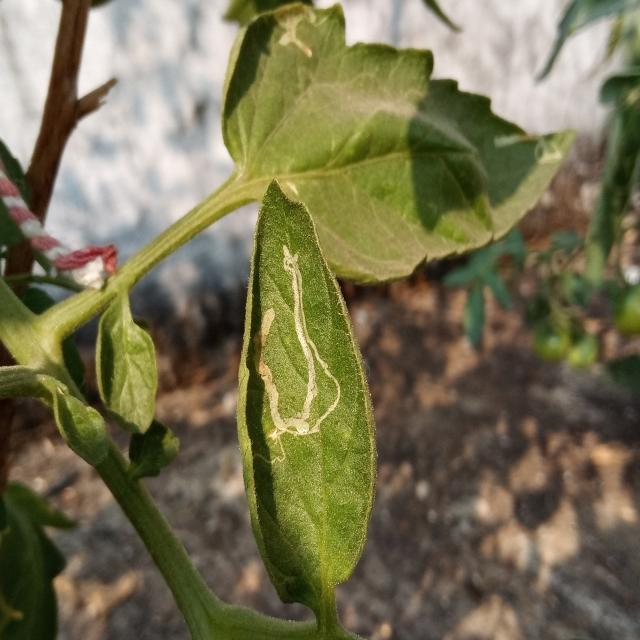Tuta absoluta: (234, 244, 354, 466), (296, 345, 342, 436)
